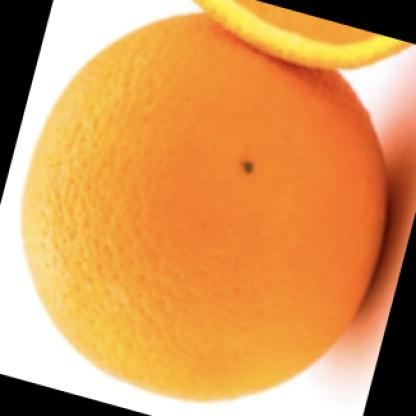fresh: (25, 14, 387, 397)
